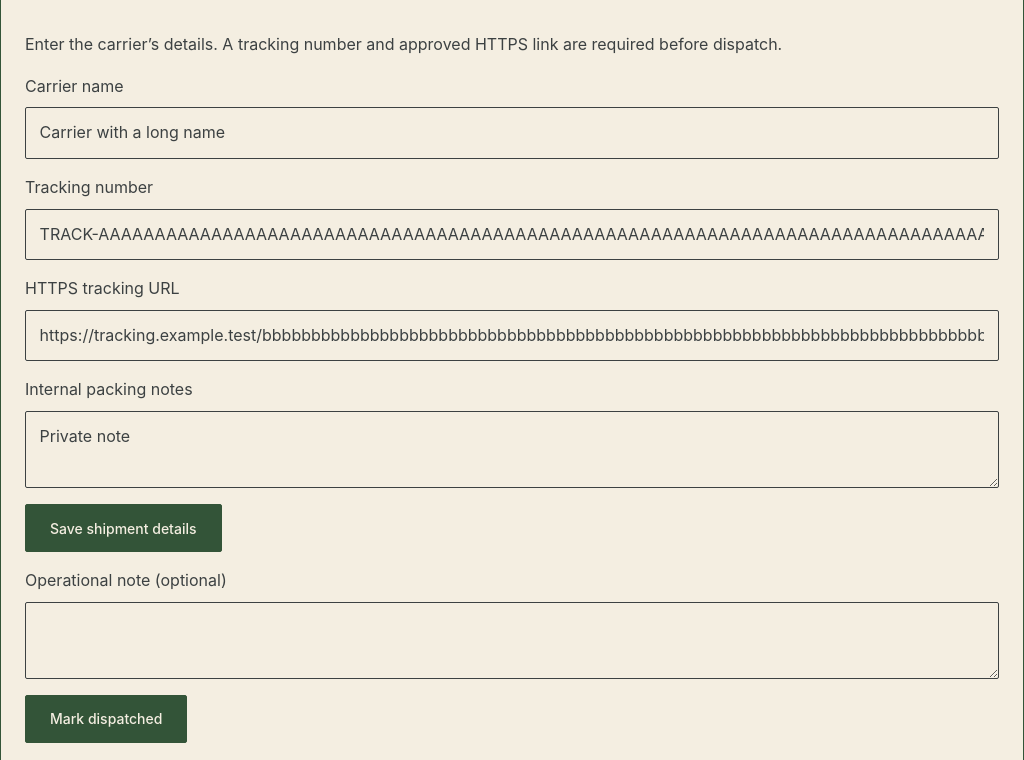
manual fulfilment › shows field validation errors associated with inputs and focuses the alert
(page scrolled)
Click the button "Save shipment details".
click(123, 528)  # box [25,504,222,552]
(page scrolled)
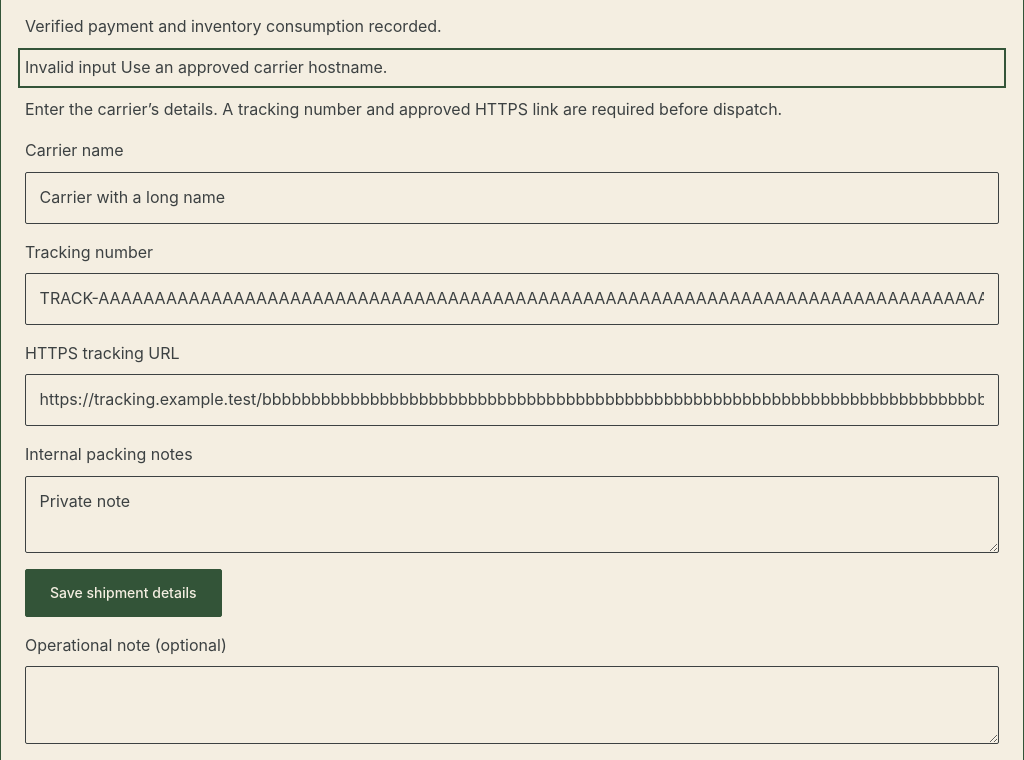
Result: the message shows "Use an approved carrier hostname." at [25,57,387,77]
